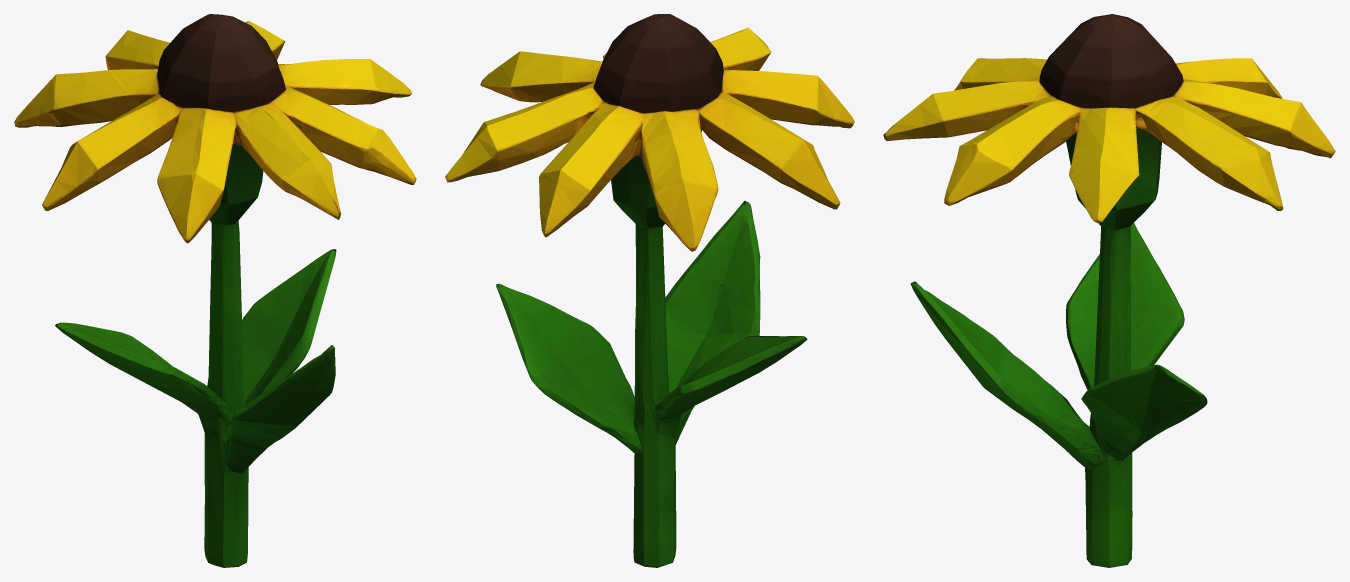
File: black_eyed_susan.glb
3 renders of one model, left to right at view 1: azimuth 30°, elevation 25°; view 2: azimuth 150°, elevation 25°; view 3: azimuth 270°, elevation 25°, orthographic.
Parts seen in each view (by area): view 1: world; view 2: world; view 3: world.
Part boxes in pixels (<box>): world: <box>14,14,416,567</box>; world: <box>445,14,854,567</box>; world: <box>883,14,1335,567</box>.
Size of the model in its own units: 0.7011 by 1 by 0.7595.
1 material, 1 textured.
